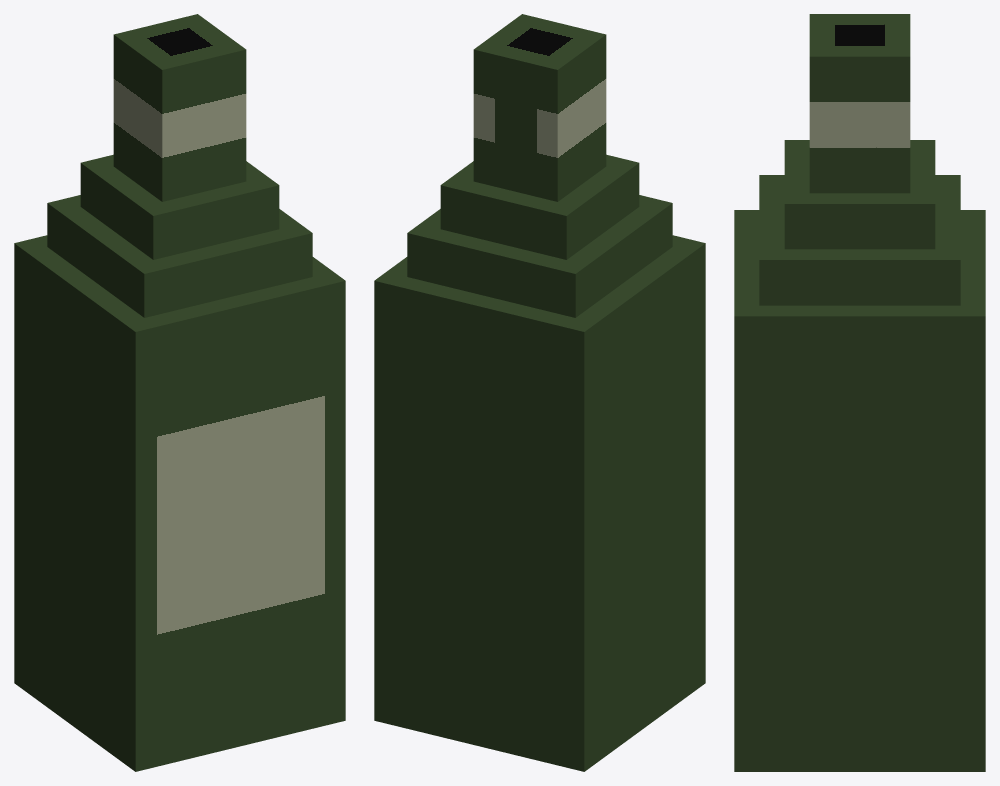
Rendered from Bottle.dae.
The picture shows the model from 3 angles, left to right: view 1: azimuth 30°, elevation 25°; view 2: azimuth 150°, elevation 25°; view 3: azimuth 270°, elevation 25°; orthographic projection. The views are drawn at different scales.
Visible parts, largest first — view 1: Bottle; view 2: Bottle; view 3: Bottle.
Boxes of the visible parts, x1,y1,x2,y2 form: Bottle: (14,14,345,771); Bottle: (374,14,705,771); Bottle: (734,14,985,771).
Size of the model in its own units: 10 by 30 by 10.
1 material, 1 textured.
